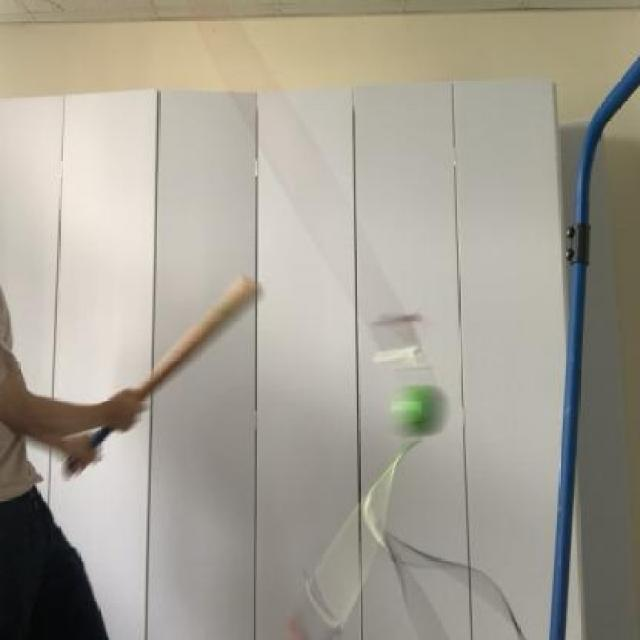baseball: (383, 375, 457, 448)
